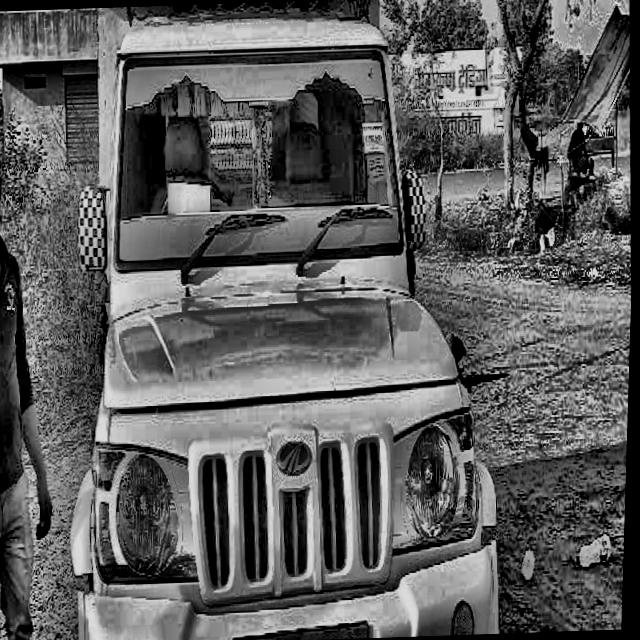light_vehicle: (45, 0, 518, 640)
